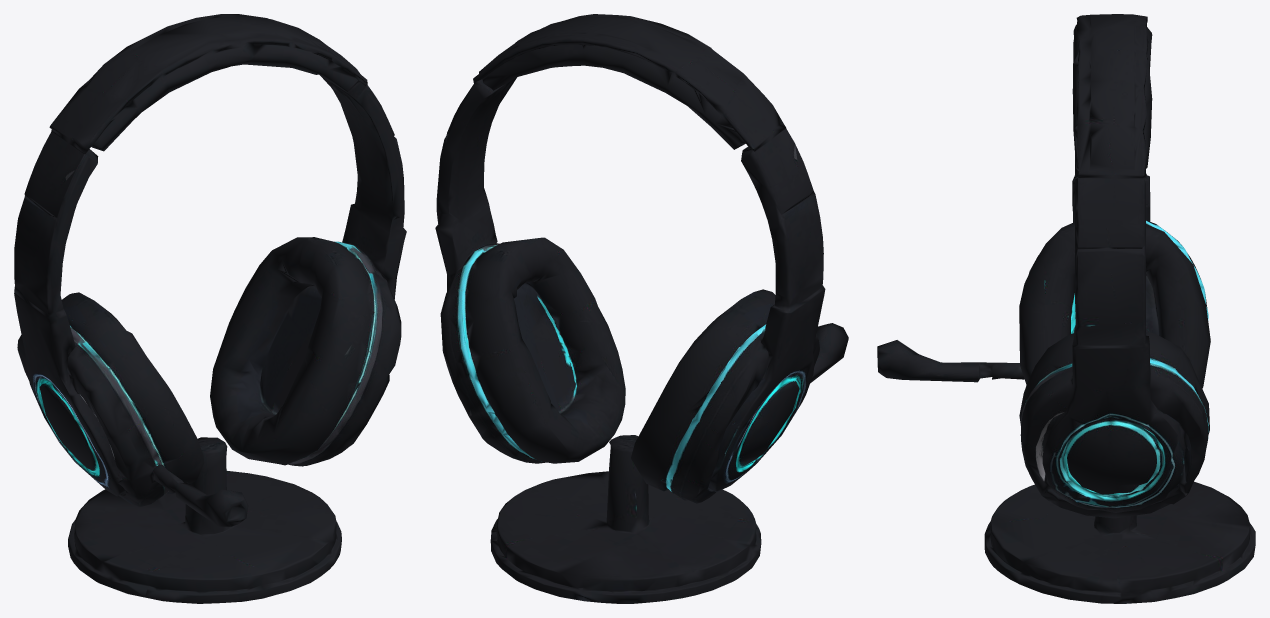
Rendered from co_headset.glb.
The picture shows the model from 3 angles, left to right: view 1: azimuth 30°, elevation 25°; view 2: azimuth 150°, elevation 25°; view 3: azimuth 270°, elevation 25°; orthographic projection.
Bounding box in the file's own units: 1.37 × 1.9 × 1.26.
1 material, 1 textured.
